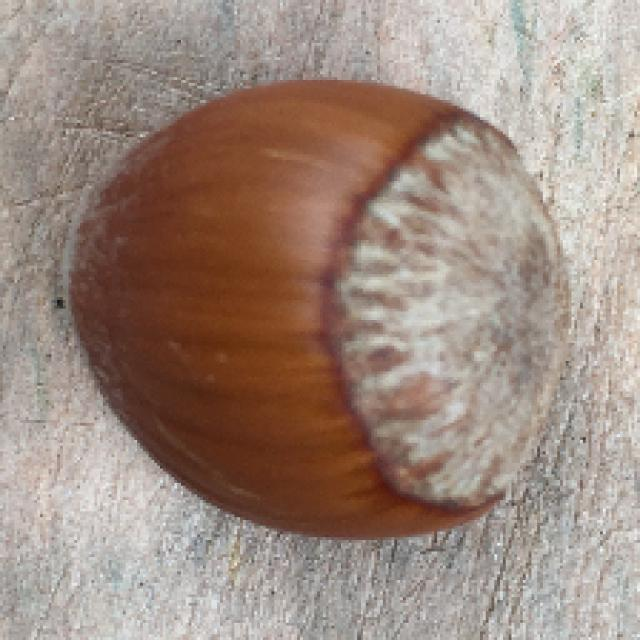qualityHazelnut: (64, 75, 572, 544)
